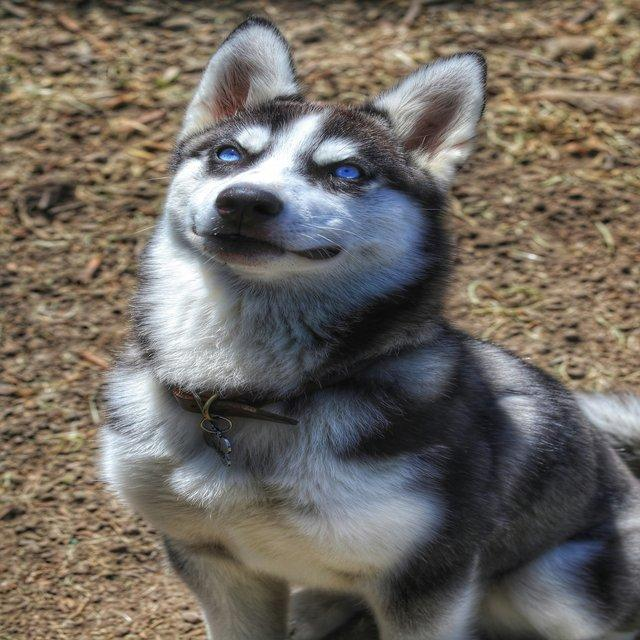husky: (95, 14, 638, 638)
